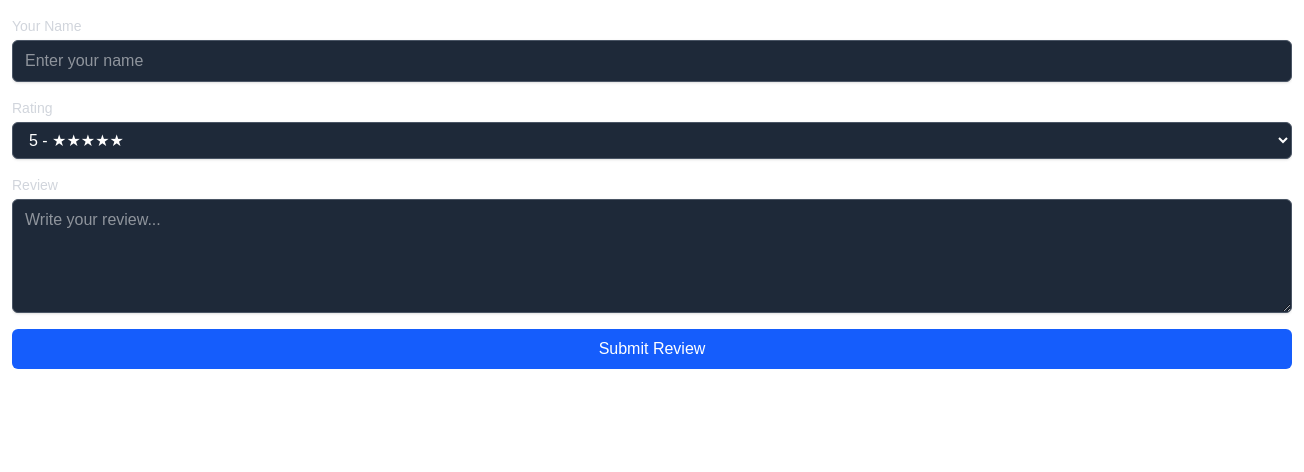
ReviewForm › shows validation errors when submitting empty form
Click the button "Submit Review" at [652, 349], box [12, 329, 1292, 369]
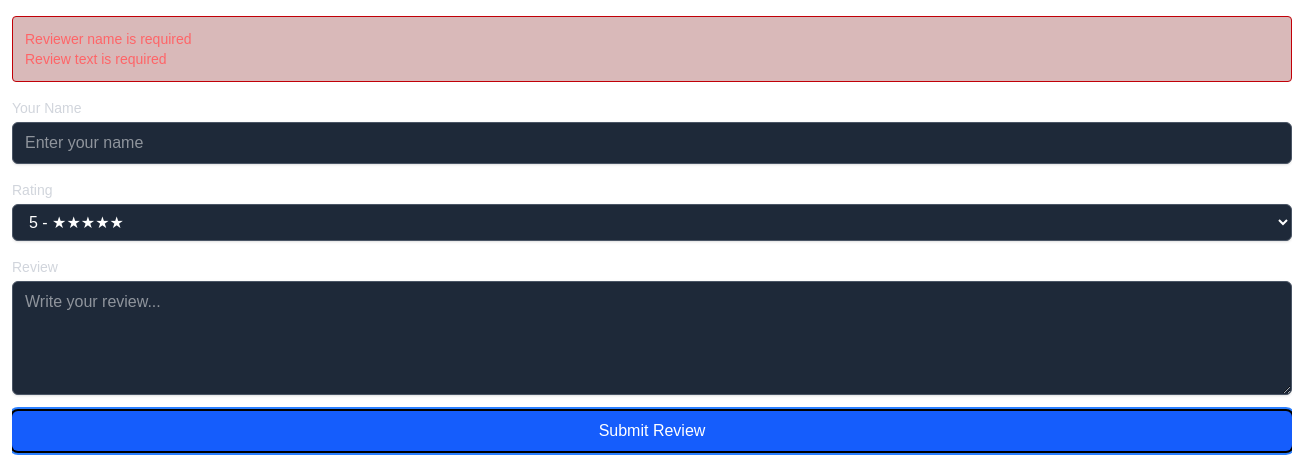
Expected: the text "Reviewer name is required" is shown, [25, 31, 192, 47]
Expected: the text "Review text is required" is shown, [25, 51, 167, 67]
